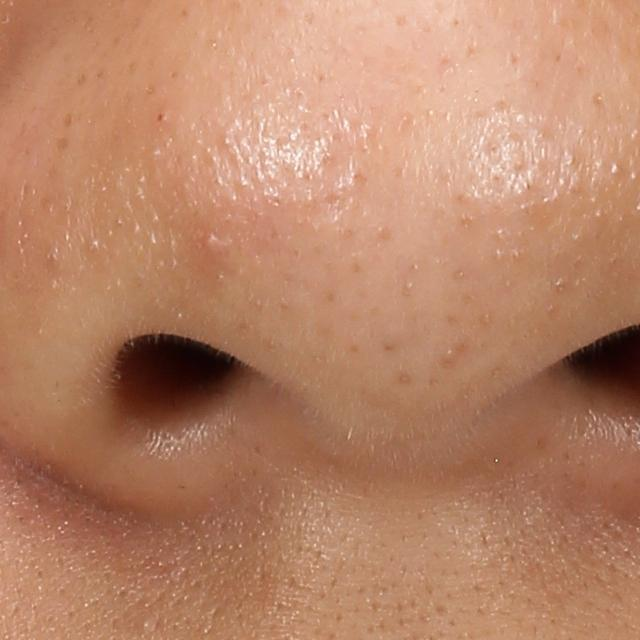comedo: (202, 232, 228, 256), (139, 615, 154, 634)
